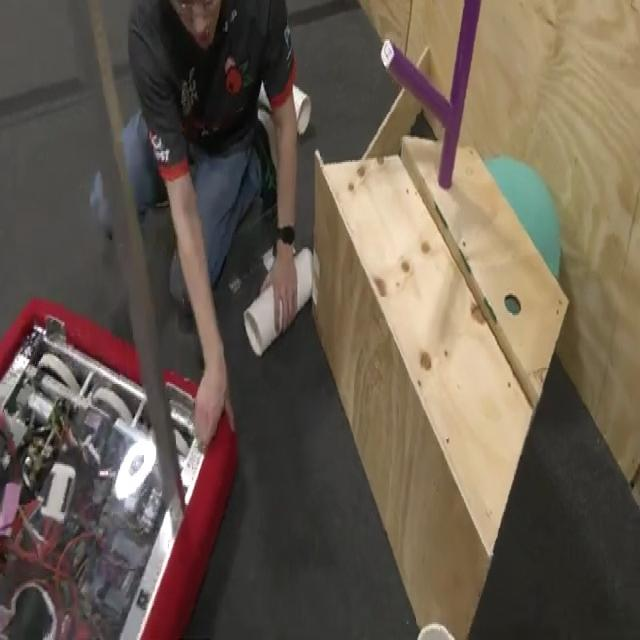Coral: (242, 244, 313, 358)
